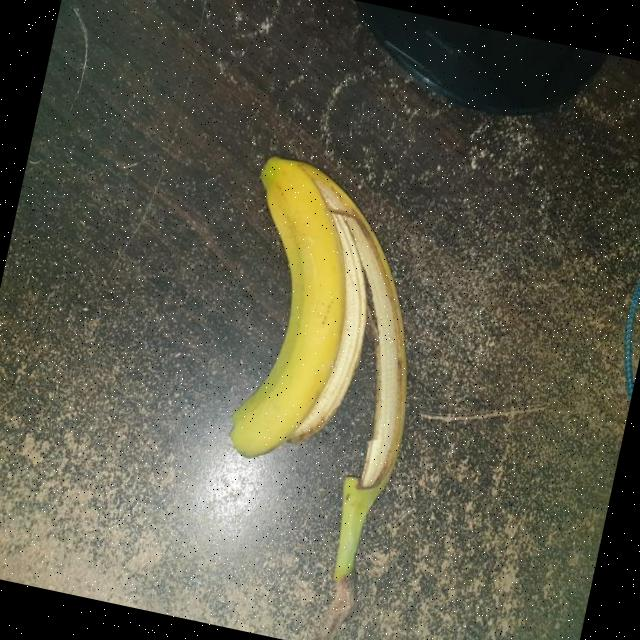banana-peel: (177, 150, 455, 590), (200, 150, 376, 470)
